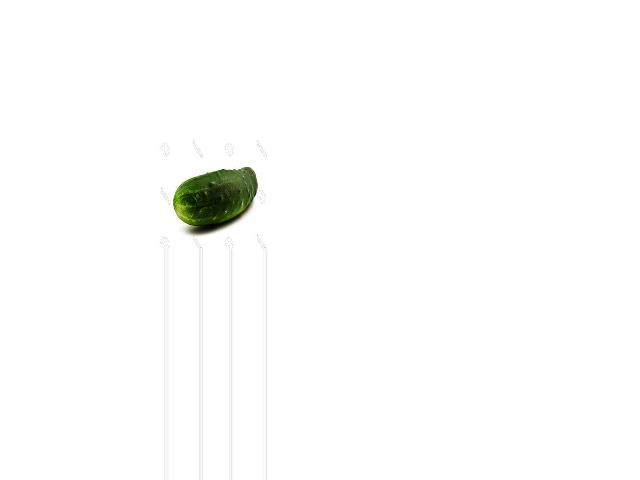cucumber: (172, 167, 257, 226)
